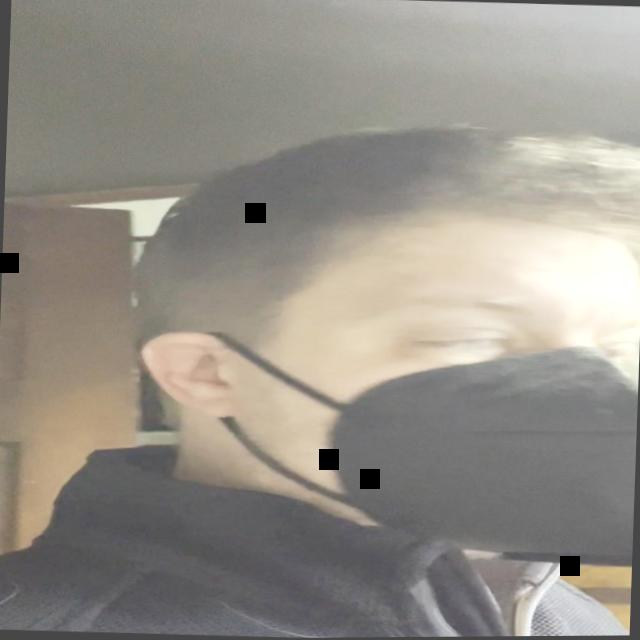Mask: (211, 200, 640, 567)
